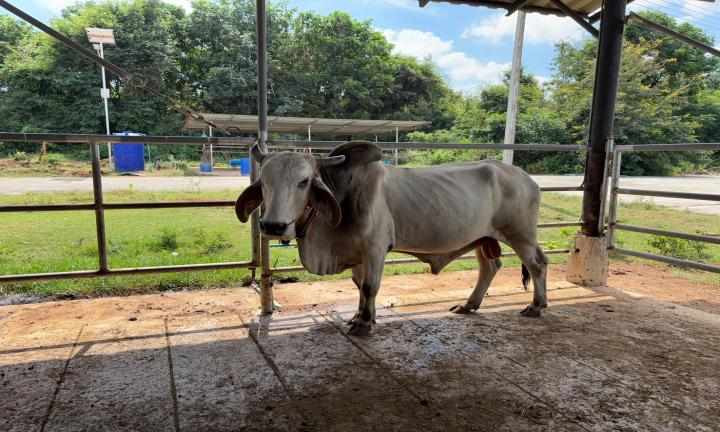Brahman: (236, 141, 547, 335)
